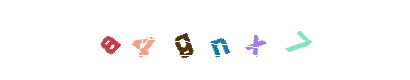4: (101, 0, 181, 80)
7: (234, 0, 314, 80)
A: (75, 0, 155, 80)
G: (144, 0, 224, 80)
N: (165, 0, 245, 80)
X: (180, 0, 260, 80)
